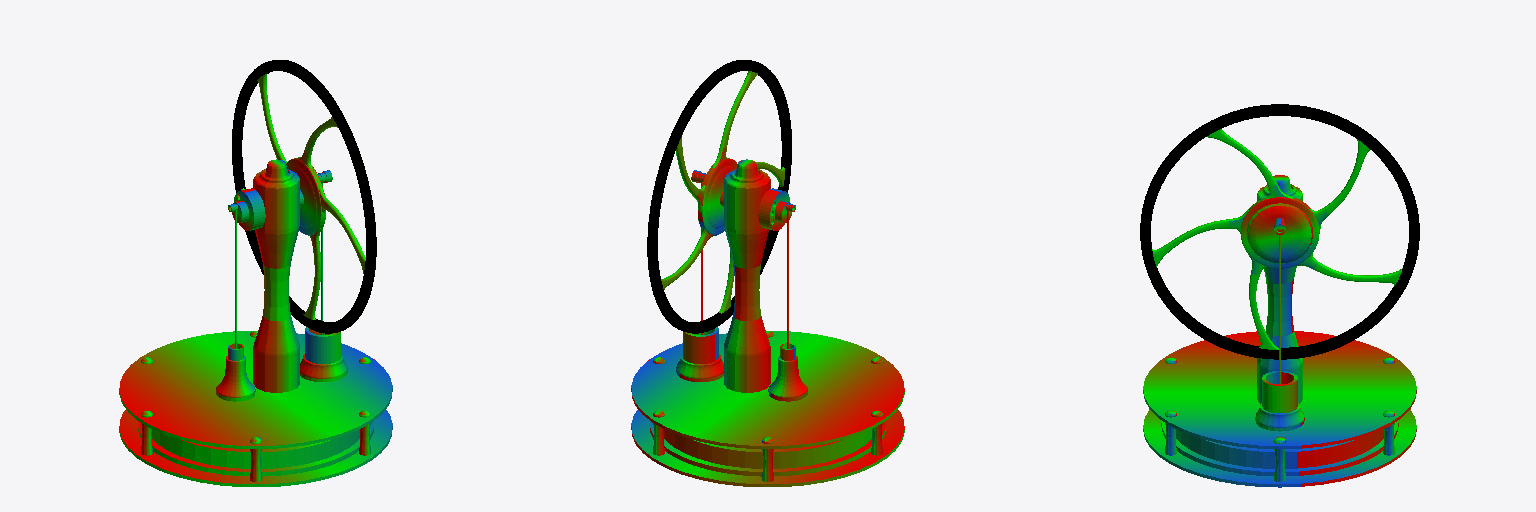
3 views of the same model, side by side, from view 1: azimuth 30°, elevation 25°; view 2: azimuth 150°, elevation 25°; view 3: azimuth 270°, elevation 25° (orthographic).
Parts seen in each view (by area): view 1: pasted__pCylinder1 group, polySurface17, group pasted__subdivCylinder7 pasted__group1, group pasted__pCylinder2, group pasted__pCylinder4, group pasted__pCylinder3, group pasted__subdivCylinder9 pasted__group2, group pasted__polySurface6, group pasted__subdivCylinder8; view 2: pasted__pCylinder1 group, polySurface17, group pasted__subdivCylinder7 pasted__group1, group pasted__pCylinder2, group pasted__pCylinder4, group pasted__pCylinder3, group pasted__subdivCylinder9 pasted__group2, group pasted__polySurface6, group pasted__subdivCylinder8; view 3: pasted__pCylinder1 group, polySurface17, group pasted__pCylinder2, group pasted__pCylinder4, group pasted__subdivCylinder7 pasted__group1, group pasted__pCylinder3, group pasted__polySurface6, group pasted__subdivCylinder8.
Part boxes in pixels (bbox=[...]): pasted__pCylinder1 group: bbox=[119, 331, 392, 448]; polySurface17: bbox=[232, 60, 376, 333]; group pasted__subdivCylinder7 pasted__group1: bbox=[253, 159, 299, 392]; group pasted__pCylinder2: bbox=[119, 410, 392, 486]; group pasted__pCylinder4: bbox=[152, 429, 359, 468]; group pasted__pCylinder3: bbox=[138, 421, 373, 476]; group pasted__subdivCylinder9 pasted__group2: bbox=[216, 356, 255, 401]; group pasted__polySurface6: bbox=[305, 327, 340, 363]; group pasted__subdivCylinder8: bbox=[300, 354, 347, 381]; pasted__pCylinder1 group: bbox=[631, 331, 904, 448]; polySurface17: bbox=[647, 60, 791, 333]; group pasted__subdivCylinder7 pasted__group1: bbox=[724, 159, 770, 392]; group pasted__pCylinder2: bbox=[631, 410, 904, 486]; group pasted__pCylinder4: bbox=[664, 429, 871, 468]; group pasted__pCylinder3: bbox=[650, 421, 885, 476]; group pasted__subdivCylinder9 pasted__group2: bbox=[768, 356, 807, 401]; group pasted__polySurface6: bbox=[683, 327, 718, 363]; group pasted__subdivCylinder8: bbox=[676, 354, 723, 381]; pasted__pCylinder1 group: bbox=[1143, 331, 1416, 448]; polySurface17: bbox=[1140, 104, 1419, 359]; group pasted__pCylinder2: bbox=[1143, 409, 1416, 487]; group pasted__pCylinder4: bbox=[1176, 429, 1383, 468]; group pasted__subdivCylinder7 pasted__group1: bbox=[1257, 175, 1302, 403]; group pasted__pCylinder3: bbox=[1161, 421, 1398, 475]; group pasted__polySurface6: bbox=[1262, 371, 1297, 412]; group pasted__subdivCylinder8: bbox=[1255, 403, 1304, 431].
Bounding box in the file's own units: 5.26 × 7.4 × 5.38.
Materials: 1 (1 with a texture image).